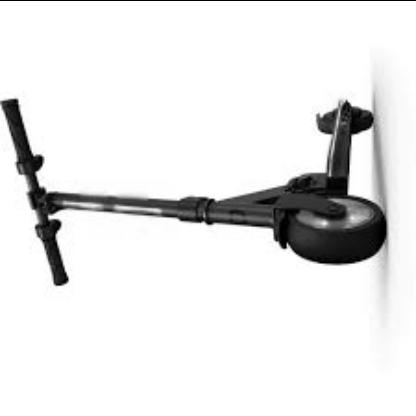bike: (0, 97, 386, 289)
